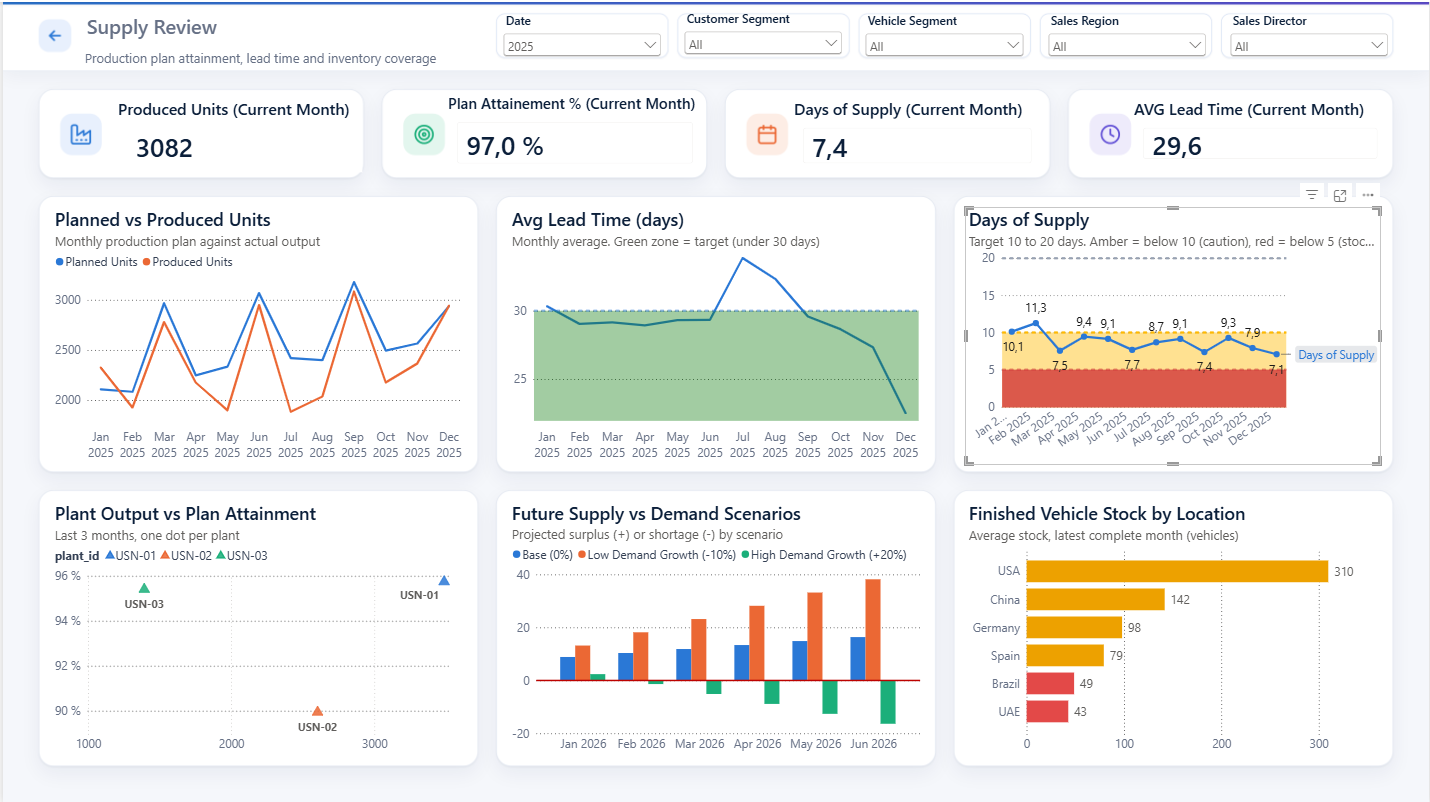

Layout of this report page (visuals, bound fields, positions):
{"tool":"powerbi","page":{"name":"Supply Review","canvas":[1920,1080],"ordinal":2},"visuals":[{"type":"cardVisual","title":"Produced Units (Current Month)","fields":{"Data":["_Measures.Produced Units (Current Month)"]},"box":[154.9,129.3,329.9,101],"z":0},{"type":"cardVisual","title":"Plan Attainement % (Current Month)","fields":{"Data":["_Measures.Plan Attainment % (Current Month)"]},"box":[599.3,122.5,342,107.7],"z":1000},{"type":"cardVisual","title":"AVG Lead Time (Current Month)","fields":{"Data":["_Measures.AVG Lead Time (Current Month)"]},"box":[1523,129.3,340.7,94.3],"z":2000},{"type":"lineChart","title":"Planned vs Produced Units","fields":{"Category":["Dim_Calendar.MonthYear"],"Y":["_Measures.Planned Units","_Measures.Produced Units"]},"box":[64,276,560,348],"z":3000},{"type":"lineChart","title":"Avg Lead Time (days)","fields":{"Category":["Dim_Calendar.MonthYear"],"Y":["_Measures.AVG Lead Time"]},"box":[680,276,560,348],"z":4000},{"type":"lineChart","title":"Days of Supply","fields":{"Category":["Dim_Calendar.MonthYear"],"Y":["_Measures.Days of Supply"]},"box":[1296,276,560,348],"z":5000},{"type":"scatterChart","title":"Plant Output vs Plan Attainment","fields":{"Series":["Dim_Plant.plant_id"],"X":["_Measures.Produced Units"],"Y":["_Measures.Plan Attainment %"]},"box":[64,672,560,348],"z":6000},{"type":"clusteredColumnChart","title":"Future Supply vs Demand Scenarios","fields":{"Category":["Months Ahead.Month Label"],"Y":["_Measures.Projected DoS (Base 0%)","_Measures.Projected DoS (Conservative -10%)","_Measures.Projected DoS (Optimistic +20%)"]},"box":[680,672,560,348],"z":7000},{"type":"clusteredBarChart","title":"Finished Vehicle Stock by Location","fields":{"Category":["Dim_Warehouse.country"],"Y":["_Measures.Baseline Stock"]},"box":[1296,672,560,348],"z":8000},{"type":"cardVisual","title":"Days of Supply (Current Month)","fields":{"Data":["_Measures.Days of Supply (Current Month)"]},"box":[1065.2,129.3,332.6,101],"z":9000},{"type":"slicer","fields":{"Values":["Dim_Calendar.year","Dim_Calendar.MonthYear"]},"box":[663.9,9.4,231.6,78.1],"z":10000},{"type":"slicer","fields":{"Values":["Dim_Customer.customer_segment"]},"box":[907.6,6.7,231.6,71.4],"z":11000},{"type":"slicer","fields":{"Values":["Dim_Vehicle_Config.vehicle_segment","Dim_Vehicle_Config.model","Dim_Vehicle_Config.config_id"]},"box":[1151.4,9.4,233,70],"z":12000},{"type":"slicer","fields":{"Values":["Dim_Customer.region"]},"box":[1397.8,9.4,231.6,70],"z":13000},{"type":"slicer","fields":{"Values":["Dim_Salesperson.sales_director_name","Dim_Salesperson.sales_manager_name","Dim_Salesperson.salesperson_name"]},"box":[1642.9,9.4,231.6,70],"z":14000},{"type":"actionButton","box":[48,26,44,44],"z":15000},{"type":"textbox","box":[107.7,9.4,519.8,48.5],"z":16000},{"type":"textbox","box":[105,57.9,519.8,37.7],"z":17000}]}

Visuals, with their boxes in screenshot pixels (x1, y1, x2, y2), scaled from the page's 1920x1080 canvas onto the 1430x802 screenshot:
"Produced Units (Current Month)" cardVisual: box(115, 96, 361, 171)
"Plan Attainement % (Current Month)" cardVisual: box(446, 91, 701, 171)
"AVG Lead Time (Current Month)" cardVisual: box(1134, 96, 1388, 166)
"Planned vs Produced Units" lineChart: box(48, 205, 465, 463)
"Avg Lead Time (days)" lineChart: box(506, 205, 924, 463)
"Days of Supply" lineChart: box(965, 205, 1382, 463)
"Plant Output vs Plan Attainment" scatterChart: box(48, 499, 465, 757)
"Future Supply vs Demand Scenarios" clusteredColumnChart: box(506, 499, 924, 757)
"Finished Vehicle Stock by Location" clusteredBarChart: box(965, 499, 1382, 757)
"Days of Supply (Current Month)" cardVisual: box(793, 96, 1041, 171)
slicer - Dim_Calendar.year x Dim_Calendar.MonthYear: box(494, 7, 667, 65)
slicer - Dim_Customer.customer_segment: box(676, 5, 848, 58)
slicer - Dim_Vehicle_Config.vehicle_segment x Dim_Vehicle_Config.model: box(858, 7, 1031, 59)
slicer - Dim_Customer.region: box(1041, 7, 1214, 59)
slicer - Dim_Salesperson.sales_director_name x Dim_Salesperson.sales_manager_name: box(1224, 7, 1396, 59)
actionButton: box(36, 19, 69, 52)
textbox: box(80, 7, 467, 43)
textbox: box(78, 43, 465, 71)
